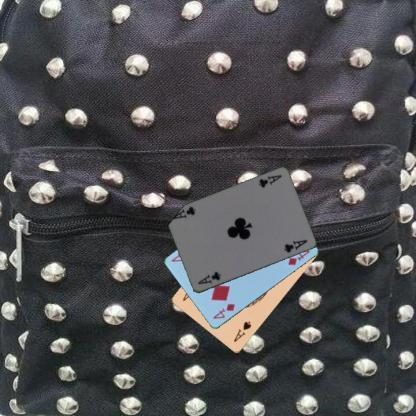4d: (210, 300, 236, 320)
Ac: (195, 269, 222, 286), (256, 172, 283, 189)
As: (232, 319, 252, 344)
